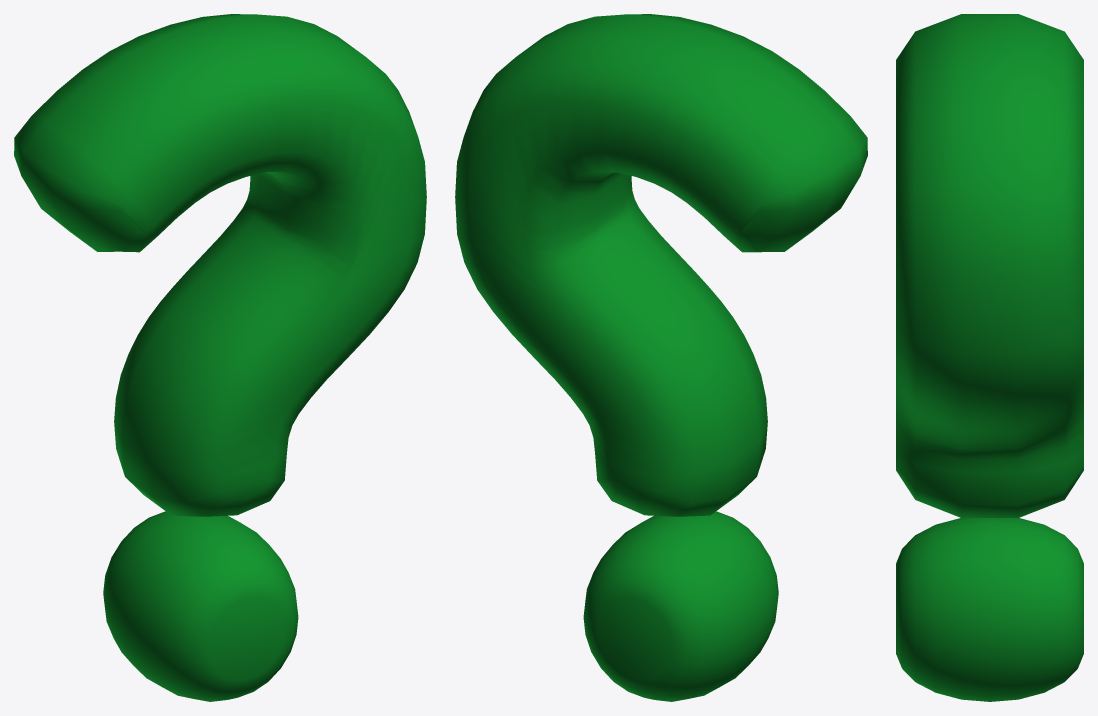
The model's file is Miscellaneous_Questionmark_01.fbx.
3 renders of one model, left to right at view 1: azimuth 30°, elevation 25°; view 2: azimuth 150°, elevation 25°; view 3: azimuth 270°, elevation 25°, orthographic.
Parts seen in each view (by area): view 1: Text ?; view 2: Text ?; view 3: Text ?.
Boxes of the visible parts, left/top/right/bottom form: Text ?: left=14, top=14, right=426, bottom=701; Text ?: left=455, top=14, right=867, bottom=701; Text ?: left=896, top=14, right=1083, bottom=701.
Size of the model in its own units: 1.84 by 3.11 by 0.8.
